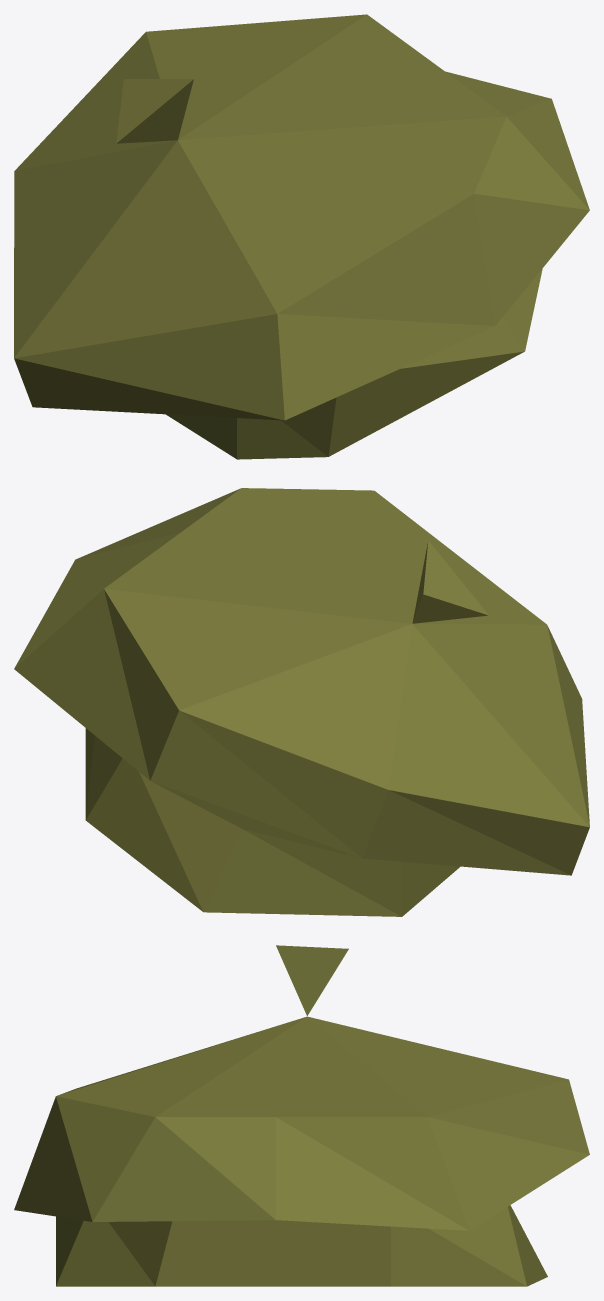
The model's file is itm_model_headA_berret_3.obj.
3 views of the same model, one above another, from view 1: azimuth 30°, elevation 25°; view 2: azimuth 150°, elevation 25°; view 3: azimuth 270°, elevation 25° (orthographic). The views are drawn at different scales.
Bounding box in the file's own units: 0.8906 × 0.5312 × 0.8594.
